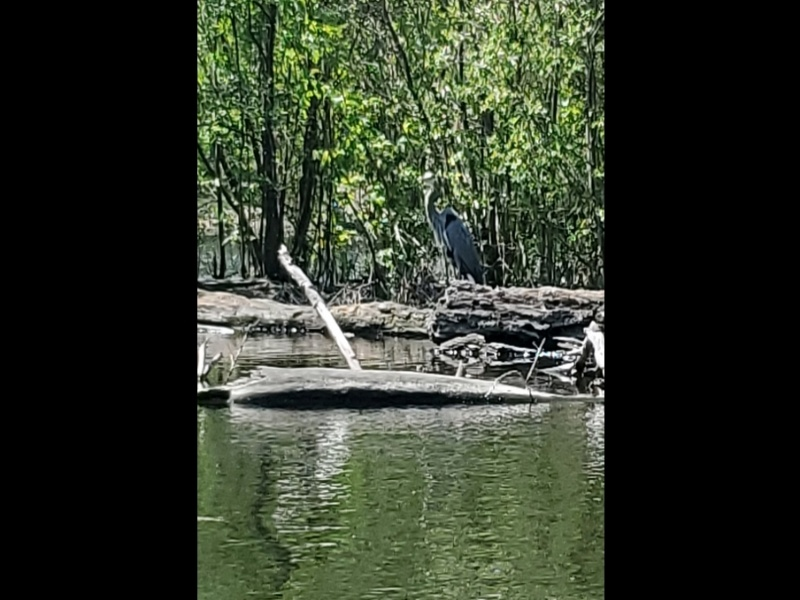heron: (412, 172, 486, 299)
